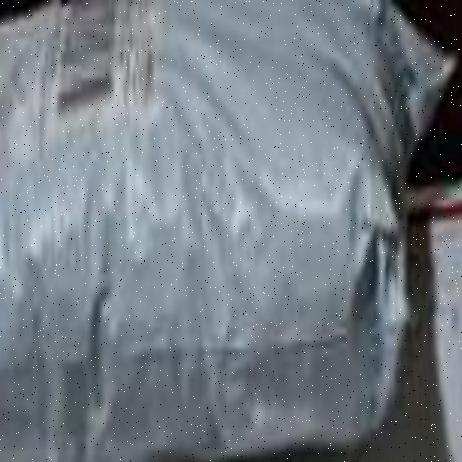Other: (0, 13, 410, 440)
